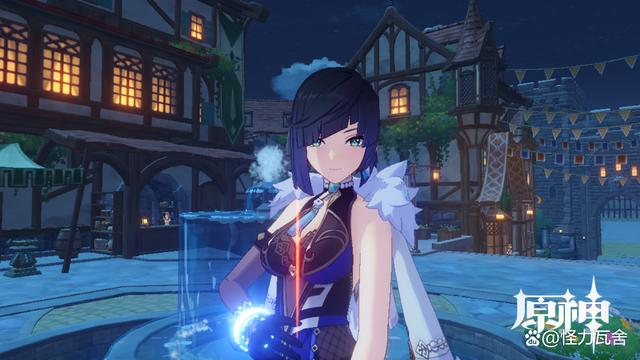夜兰: (212, 67, 391, 360)
